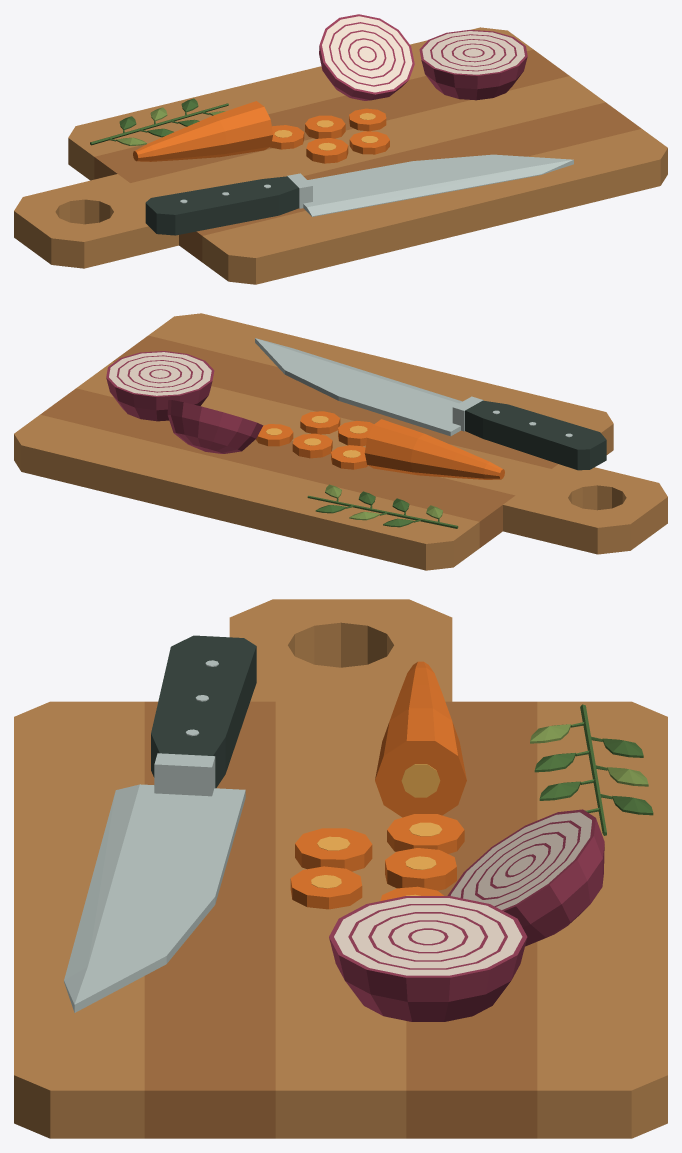
The picture shows the model from 3 angles, top to bottom: view 1: azimuth 30°, elevation 25°; view 2: azimuth 150°, elevation 25°; view 3: azimuth 270°, elevation 25°; orthographic projection. The views are drawn at different scales.
Parts seen in each view (by area): view 1: cuttingboardset.body.plank_5, cuttingboardset.body.plank_3, cuttingboardset.handle, cuttingboardset.body.plank_1, cuttingboardset.body.plank_4, cuttingboardset.body.plank_2, cuttingboardset.knife.grip, cuttingboardset.onion.half_b.layers, cuttingboardset.knife.blade, cuttingboardset.carrot.body, cuttingboardset.onion.half_a.layers, cuttingboardset.knife.edge (+9 smaller); view 2: cuttingboardset.body.plank_1, cuttingboardset.body.plank_2, cuttingboardset.handle, cuttingboardset.body.plank_5, cuttingboardset.body.plank_4, cuttingboardset.knife.blade, cuttingboardset.knife.grip, cuttingboardset.body.plank_3, cuttingboardset.carrot.body, cuttingboardset.onion.half_a.layers, cuttingboardset.onion.half_b.skin, cuttingboardset.onion.half_a.skin (+8 smaller); view 3: cuttingboardset.body.plank_1, cuttingboardset.body.plank_5, cuttingboardset.body.plank_3, cuttingboardset.body.plank_4, cuttingboardset.body.plank_2, cuttingboardset.knife.blade, cuttingboardset.handle, cuttingboardset.onion.half_a.layers, cuttingboardset.knife.grip, cuttingboardset.carrot.body, cuttingboardset.onion.half_b.layers, cuttingboardset.onion.half_a.skin (+8 smaller).
Part boxes in pixels (<box>): cuttingboardset.body.plank_5: <box>202,129,667,284</box>; cuttingboardset.body.plank_3: <box>130,76,605,197</box>; cuttingboardset.handle: <box>14,174,178,268</box>; cuttingboardset.body.plank_1: <box>68,27,533,180</box>; cuttingboardset.body.plank_4: <box>179,102,641,261</box>; cuttingboardset.body.plank_2: <box>94,49,569,182</box>; cuttingboardset.knife.grip: <box>145,176,298,235</box>; cuttingboardset.onion.half_b.layers: <box>319,14,414,94</box>; cuttingboardset.knife.blade: <box>303,154,572,211</box>; cuttingboardset.carrot.body: <box>133,101,272,161</box>; cuttingboardset.onion.half_a.layers: <box>419,30,527,75</box>; cuttingboardset.knife.edge: <box>307,159,573,216</box>; cuttingboardset.body.plank_1: <box>14,414,479,570</box>; cuttingboardset.body.plank_2: <box>40,388,515,547</box>; cuttingboardset.handle: <box>503,464,667,554</box>; cuttingboardset.body.plank_5: <box>148,313,613,454</box>; cuttingboardset.body.plank_4: <box>112,335,557,468</box>; cuttingboardset.knife.blade: <box>255,338,460,436</box>; cuttingboardset.knife.grip: <box>465,400,606,470</box>; cuttingboardset.body.plank_3: <box>76,362,551,495</box>; cuttingboardset.carrot.body: <box>364,419,504,479</box>; cuttingboardset.onion.half_a.layers: <box>106,351,214,396</box>; cuttingboardset.onion.half_b.skin: <box>167,400,263,453</box>; cuttingboardset.onion.half_a.skin: <box>106,378,212,421</box>; cuttingboardset.body.plank_1: <box>537,701,667,1138</box>; cuttingboardset.body.plank_5: <box>14,701,144,1138</box>; cuttingboardset.body.plank_3: <box>275,701,406,1138</box>; cuttingboardset.body.plank_4: <box>144,701,275,1138</box>; cuttingboardset.body.plank_2: <box>406,701,537,1138</box>; cuttingboardset.knife.blade: <box>74,784,245,1012</box>; cuttingboardset.handle: <box>229,599,452,701</box>; cuttingboardset.onion.half_a.layers: <box>329,896,527,977</box>; cuttingboardset.knife.grip: <box>151,635,256,788</box>; cuttingboardset.carrot.body: <box>375,661,466,817</box>; cuttingboardset.onion.half_b.layers: <box>447,809,595,910</box>; cuttingboardset.onion.half_a.skin: <box>329,937,526,1021</box>.
Bounding box in the file's own units: 0.48 × 0.0744 × 0.27.
